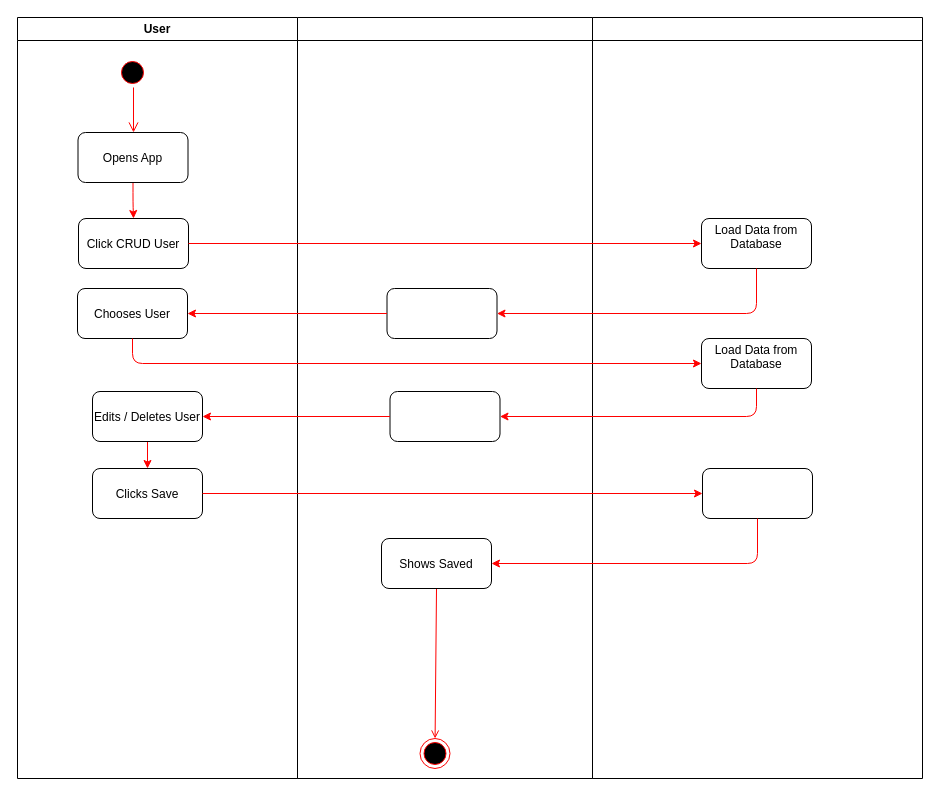
This 940x796 diagram has some shape labels left out. The shapes that lost their labels are listed below. From the top down, each one's box as (x1, y1, x2, y2) in pixels, then its label:
(386, 288, 497, 338): Shows User List
(296, 16, 592, 778): UI
(389, 390, 500, 442): Shows Data of User
(592, 16, 922, 778): Backend
(702, 468, 812, 518): Saves Changes
